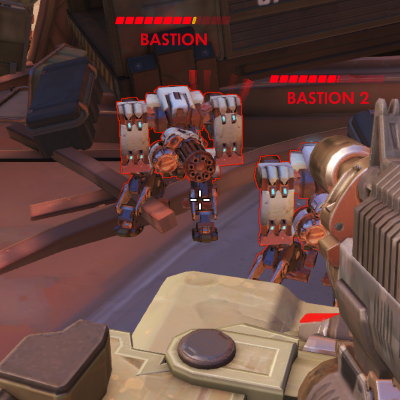hpbar: (115, 16, 231, 25), (269, 74, 385, 83)
